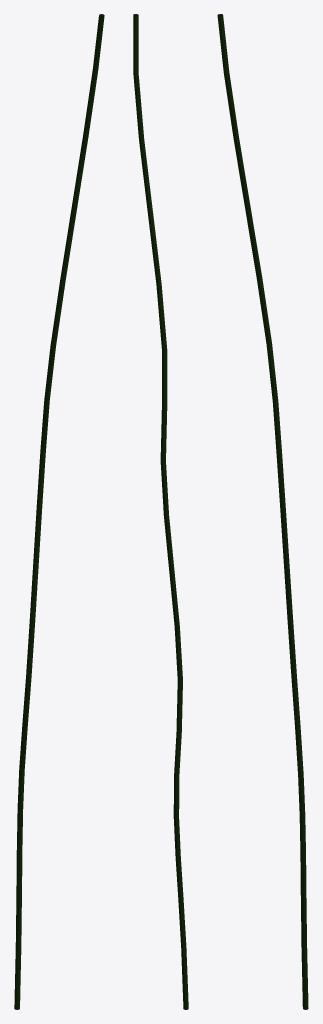
The model's file is Pnącze1.fbx.
3 views of the same model, side by side, from view 1: azimuth 90°, elevation 25°; view 2: azimuth 210°, elevation 25°; view 3: azimuth 270°, elevation 25° (orthographic). The views are drawn at different scales.
Parts seen in each view (by area): view 1: BezierCurve.002; view 2: BezierCurve.002; view 3: BezierCurve.002.
Part boxes in pixels (x1,y1,x2,y2): BezierCurve.002: (14, 14, 104, 1009); BezierCurve.002: (133, 14, 188, 1009); BezierCurve.002: (217, 14, 308, 1009).
Size of the model in its own units: 0.3329 by 18.45 by 1.52.
